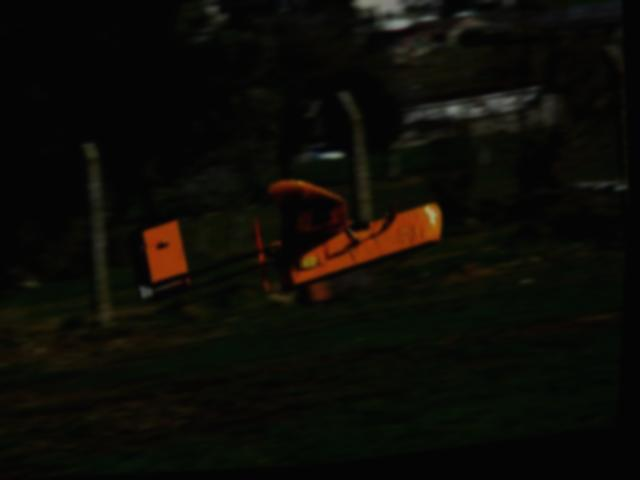iha: (102, 157, 466, 338)
